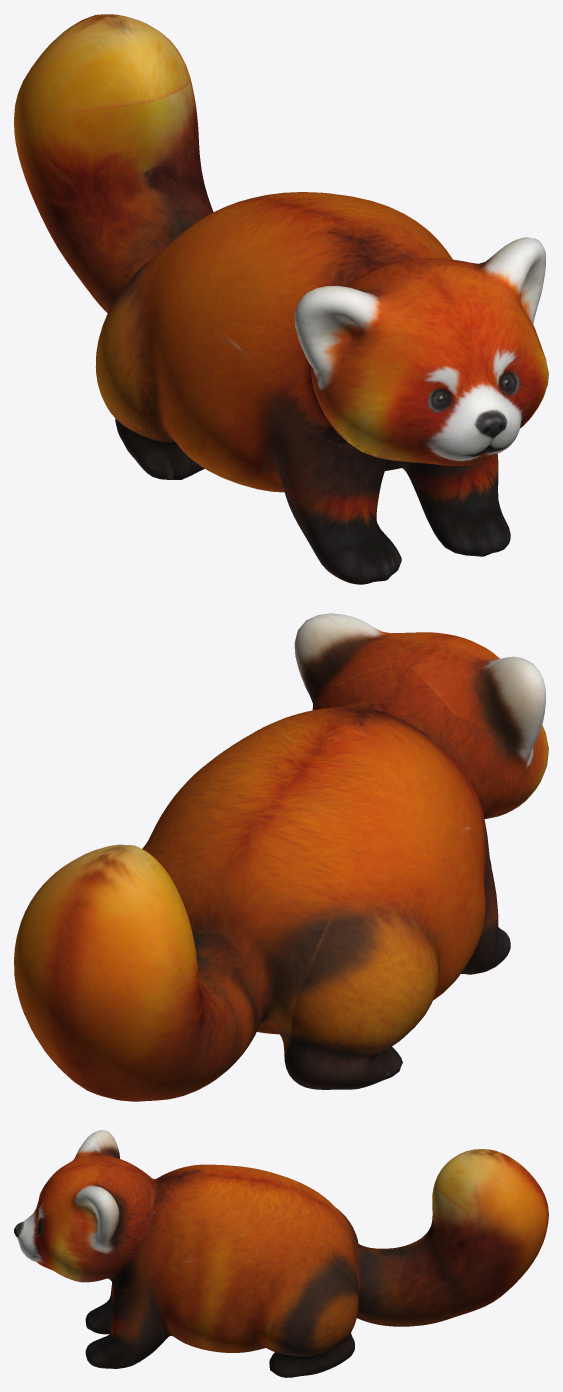
The model's file is redpanda.glb.
3 renders of one model, top to bottom at view 1: azimuth 30°, elevation 25°; view 2: azimuth 150°, elevation 25°; view 3: azimuth 270°, elevation 25°, orthographic. The views are drawn at different scales.
Parts seen in each view (by area): view 1: Object_2; view 2: Object_2; view 3: Object_2.
Part boxes in pixels (x1,y1,x2,y2): Object_2: (14, 14, 548, 584); Object_2: (14, 613, 548, 1101); Object_2: (14, 1130, 548, 1377).
Size of the model in its own units: 0.8328 by 0.8039 by 2.
Materials: 1 (1 with a texture image).
